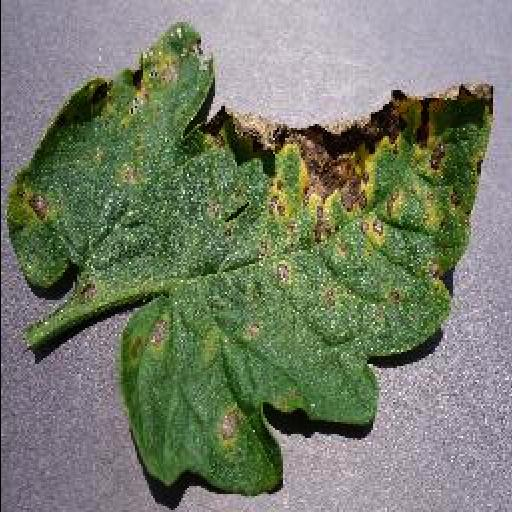disease_tomato: (8, 22, 492, 498)
